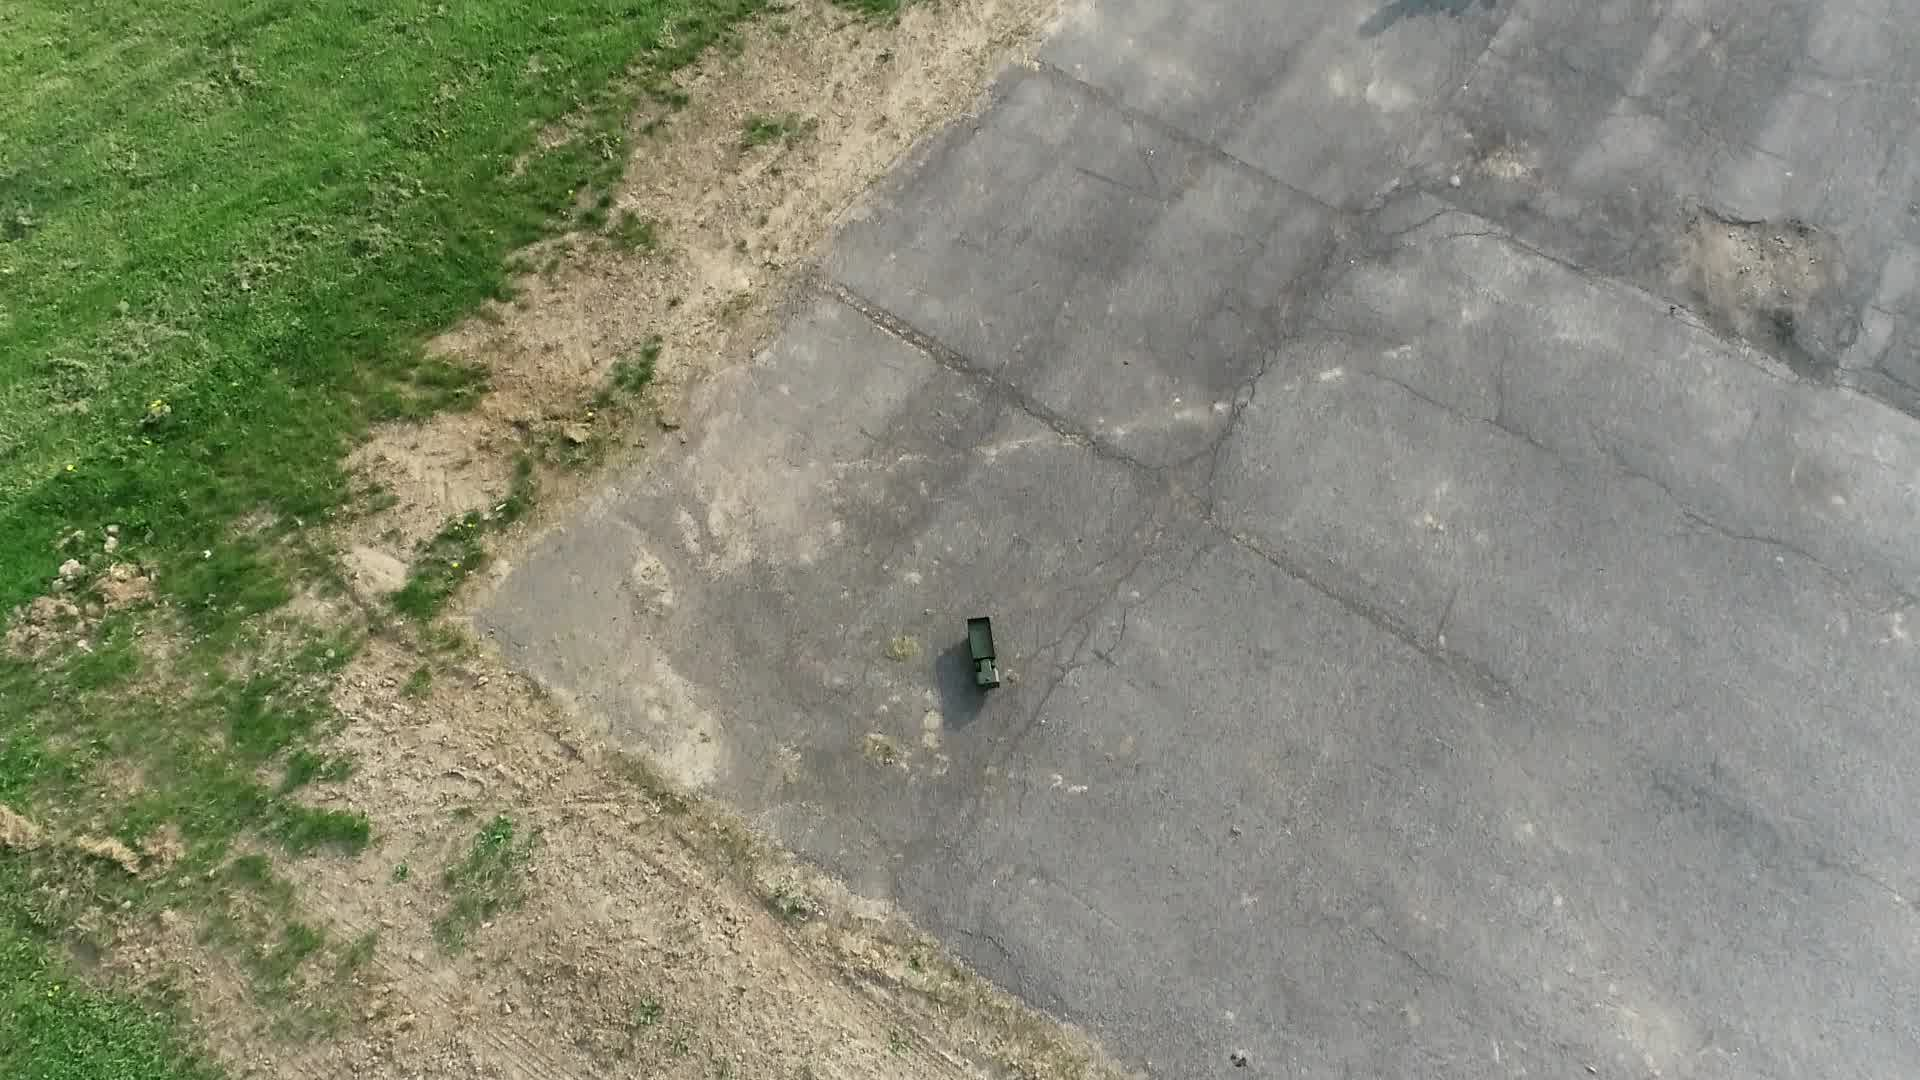transporter9: (963, 616, 1006, 692)
